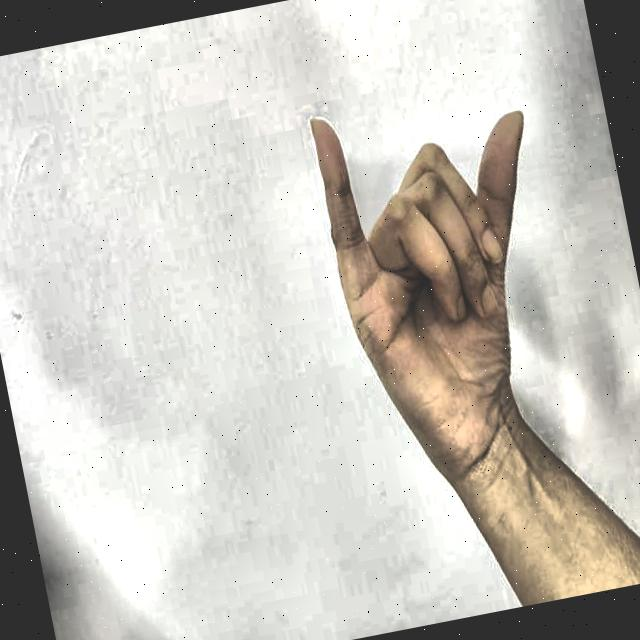Oi: (268, 53, 609, 521)
